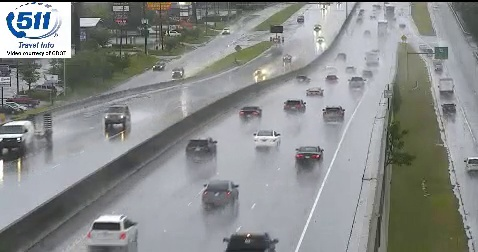car: (86, 215, 137, 247), (202, 181, 238, 207), (186, 138, 217, 160), (254, 131, 280, 149), (295, 147, 322, 164), (322, 106, 345, 122), (284, 99, 306, 114), (239, 106, 262, 120)
